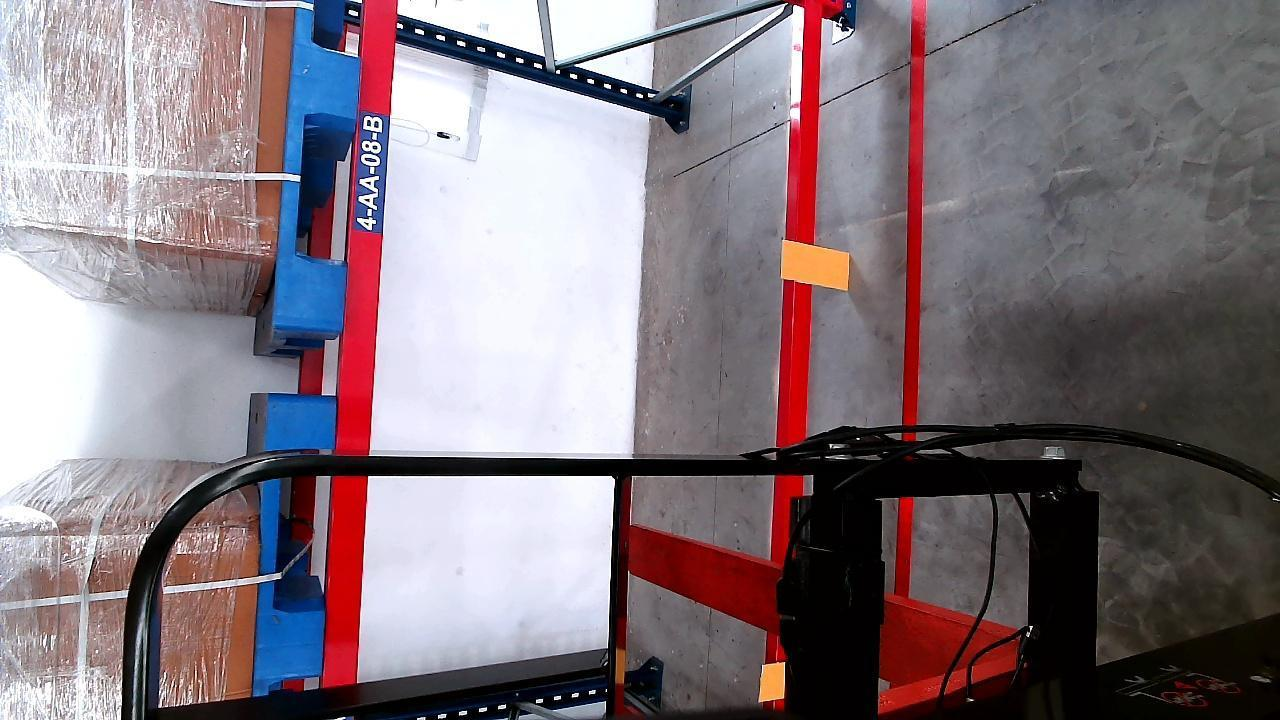h_rack: (320, 0, 399, 686), (772, 2, 829, 569)
orange_strip: (785, 242, 850, 289)
red_line: (903, 5, 928, 433)
small_pallet: (274, 0, 361, 348), (254, 399, 332, 677)
